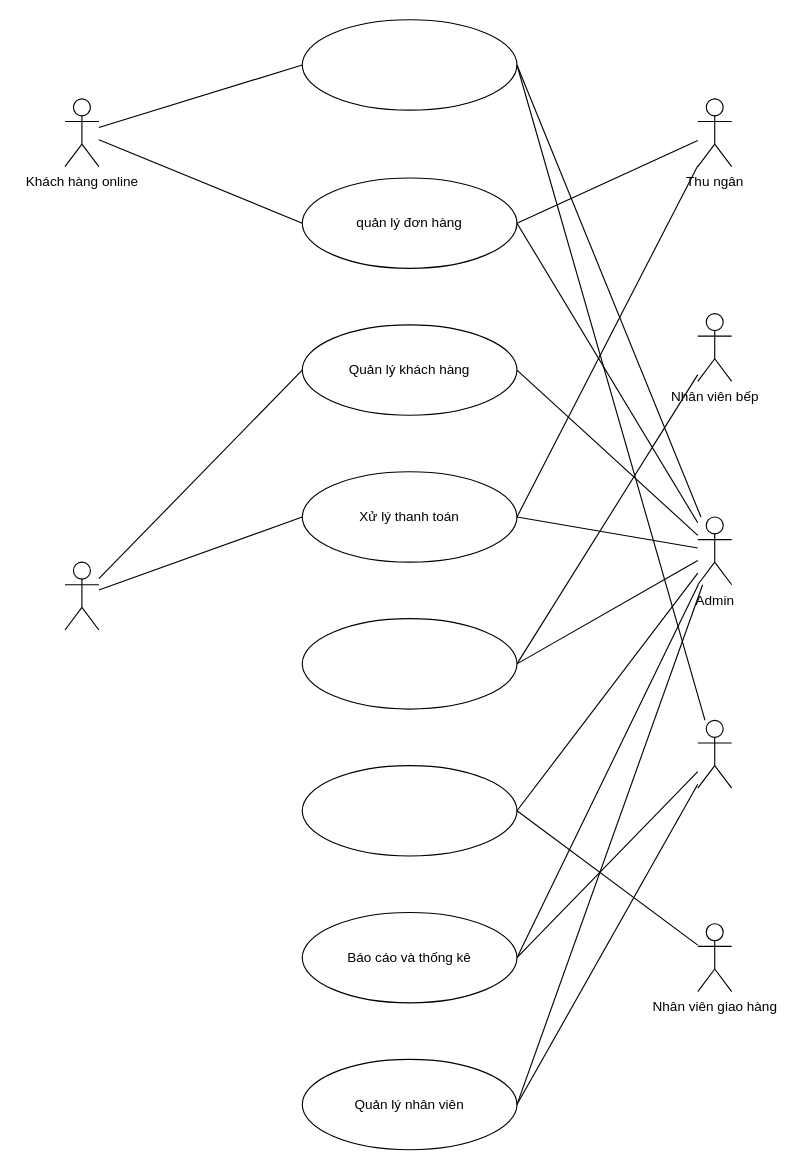
This 797x1170 diagram has some shape labels left out. Here are the shapes that lost their labels. From the top down, the centre of each, then its label:
point (409, 64): Quản lý menu
point (81, 595): Khách hàng trực tiếp
point (409, 663): Quản lý bếp
point (714, 753): Quản lý
point (409, 810): Quản lý giao hàng
